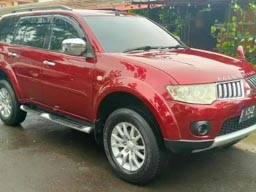plat: (241, 105, 253, 121)
